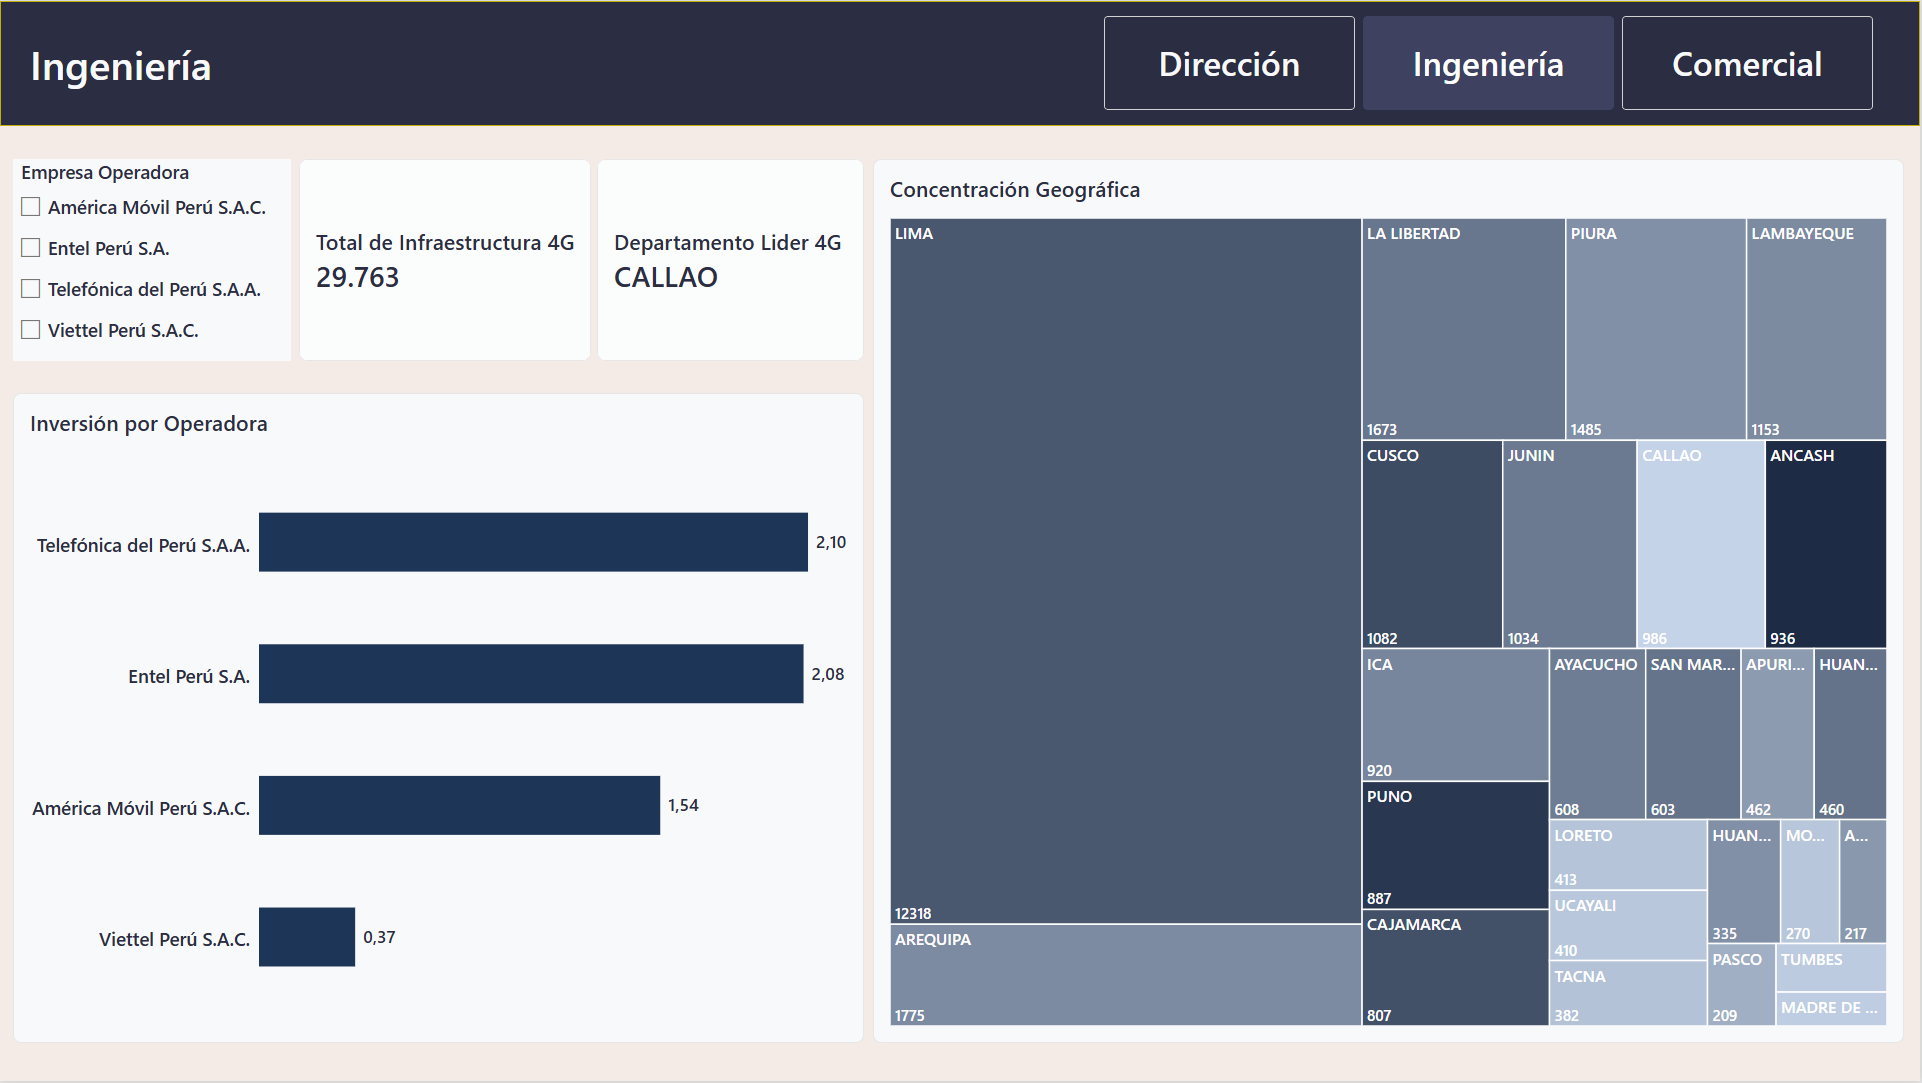

Layout of this report page (visuals, bound fields, positions):
{"tool":"powerbi","page":{"name":"Ingeniería","canvas":[1920,1080],"ordinal":1},"visuals":[{"type":"cardVisual","title":"Total de Centros Poblados","fields":{"Data":["_Medidas.Total Estaciones Base 4G"]},"box":[298.9,157.8,292.2,202.2],"z":0},{"type":"textbox","box":[0,0,13.7,120.1],"z":1000},{"type":"shape","box":[0,0,1920,124.8],"z":2000},{"type":"clusteredBarChart","title":"Inversión por Operadora","fields":{"Category":["cobertura_movil.empresa_operadora"],"Y":["_Medidas.Promedio EB 4G"]},"box":[13.3,392.2,851.1,650],"z":3000},{"type":"treemap","title":"Concentración Geográfica","fields":{"Group":["cobertura_movil.departamento"],"Values":["Sum(cobertura_movil.cant_eb_4g)"]},"box":[873.3,157.8,1031.1,884.4],"z":4000},{"type":"slicer","fields":{"Values":["cobertura_movil.empresa_operadora"]},"box":[13.3,157.8,277.8,202.2],"z":5000},{"type":"cardVisual","title":"Total de Centros Poblados","fields":{"Data":["_Medidas.Departamento Lider 4G"]},"box":[596.7,157.8,267.8,202.2],"z":6000},{"type":"pageNavigator","box":[1103.9,15.1,770.7,94.2],"z":7000}]}

Visuals, with their boxes in screenshot pixels (x1, y1, x2, y2), scaled from the page's 1920x1080 canvas onto the 1922x1083 screenshot:
"Total de Centros Poblados" cardVisual: (299, 158, 592, 361)
textbox: (0, 0, 14, 120)
shape: (0, 0, 1921, 125)
"Inversión por Operadora" clusteredBarChart: (13, 393, 865, 1045)
"Concentración Geográfica" treemap: (874, 158, 1906, 1045)
slicer - cobertura_movil.empresa_operadora: (13, 158, 291, 361)
"Total de Centros Poblados" cardVisual: (597, 158, 865, 361)
pageNavigator: (1105, 15, 1877, 110)
